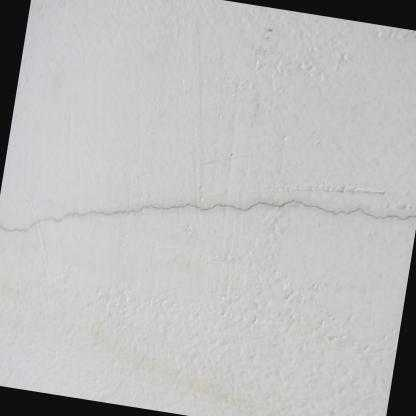crack: (0, 197, 416, 234)
